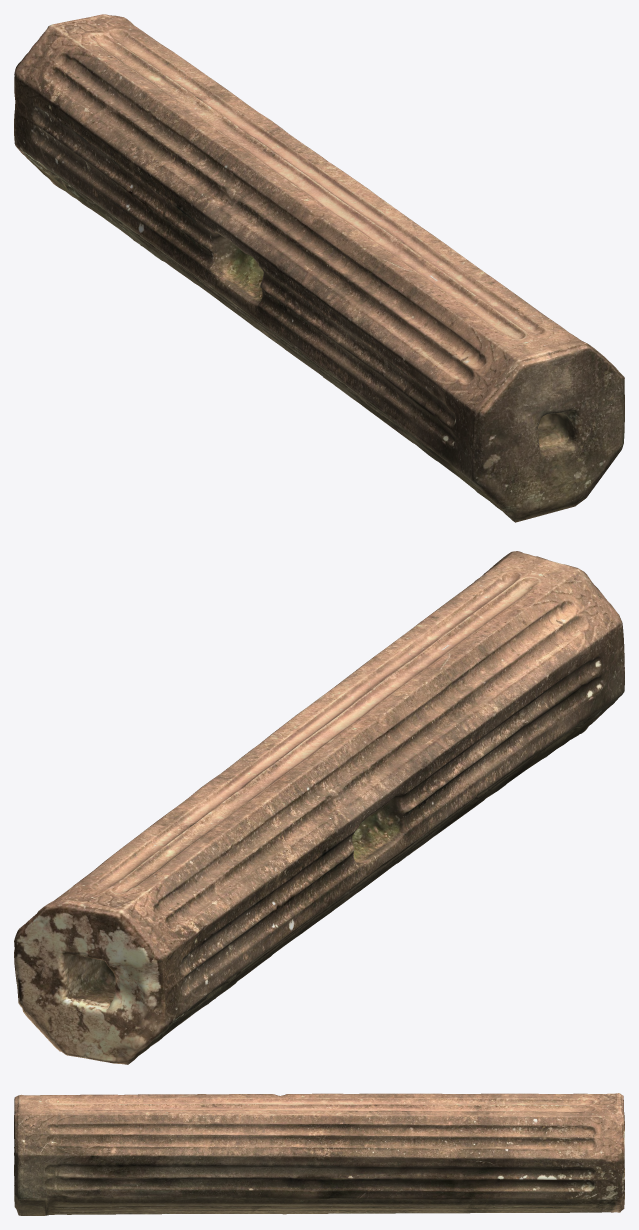
Rendered from 24_MysonSanctuaryB_Trucot_final.glb.
The picture shows the model from 3 angles, top to bottom: view 1: azimuth 30°, elevation 25°; view 2: azimuth 150°, elevation 25°; view 3: azimuth 270°, elevation 25°; orthographic projection. The views are drawn at different scales.
Bounding box in the file's own units: 0.4855 × 0.4929 × 2.58.
1 material, 1 textured.
